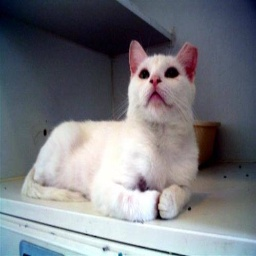cat: (19, 40, 203, 220)
